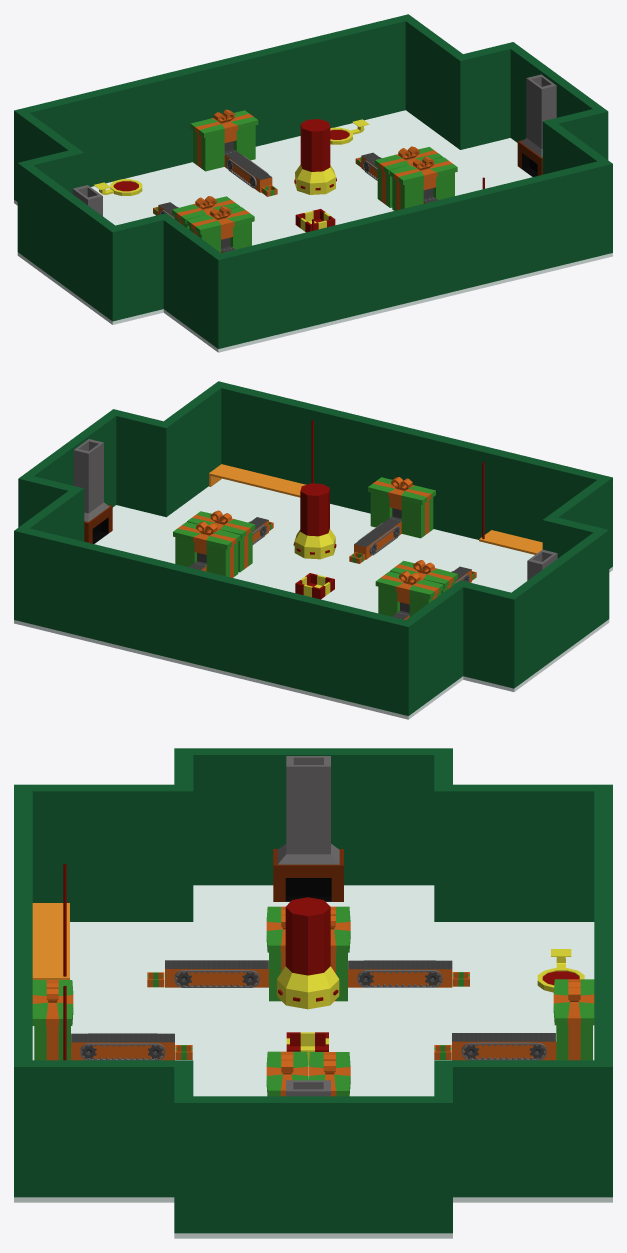
The model's file is EscenarioFinal.fbx.
3 renders of one model, top to bottom at view 1: azimuth 30°, elevation 25°; view 2: azimuth 150°, elevation 25°; view 3: azimuth 270°, elevation 25°, orthographic. The views are drawn at different scales.
Parts seen in each view (by area): view 1: Cube.005, Cube.009, Cube.006, Cube.014, Cylinder.008, Cube.019, Cube.011, Cube.008, Cube.017, Cube.007, Cylinder.007, Cube.003 (+1 smaller); view 2: Cube.005, Cube.013, Cube.011, Cube.014, Cube.002, Cylinder.008, Cube.017, Cube.006, Cube.015, Cube.019, Cube.007, Cube.003; view 3: Cube.005, Cube.003, Cylinder.008, Cube.002, Cube.009, Cube.008, Cube.016, Cube.018, Cube.015, Cube.013, Cube.017, Cube.006 (+5 smaller).
Boxes of the visible parts, box(x1,y1,x2,y2) form: Cube.005: box(14, 14, 612, 352); Cube.009: box(190, 109, 258, 171); Cube.006: box(389, 156, 457, 210); Cube.014: box(517, 74, 556, 176); Cylinder.008: box(294, 119, 336, 194); Cube.019: box(186, 206, 254, 252); Cube.011: box(375, 146, 442, 207); Cube.008: box(224, 151, 277, 196); Cube.017: box(172, 196, 240, 229); Cube.007: box(295, 209, 335, 232); Cylinder.007: box(94, 179, 142, 195); Cube.003: box(72, 185, 102, 215); Cube.005: box(14, 381, 612, 719); Cube.013: box(368, 477, 435, 538); Cube.011: box(173, 521, 240, 577); Cube.014: box(73, 439, 112, 543); Cube.002: box(209, 420, 542, 554); Cylinder.008: box(293, 483, 336, 559); Cube.017: box(375, 571, 443, 616); Cube.006: box(187, 510, 255, 572); Cube.015: box(349, 518, 401, 563); Cube.019: box(390, 560, 457, 593); Cube.007: box(295, 573, 334, 599); Cube.003: box(527, 549, 557, 580); Cube.005: box(14, 748, 612, 1238); Cube.003: box(273, 756, 343, 901); Cylinder.008: box(277, 897, 339, 1009); Cube.002: box(32, 863, 69, 1060); Cube.009: box(553, 979, 594, 1060); Cube.008: box(434, 1033, 556, 1060); Cube.016: box(147, 960, 268, 987); Cube.018: box(348, 960, 469, 987); Cube.015: box(71, 1033, 192, 1060); Cube.013: box(32, 980, 73, 1060); Cube.017: box(330, 906, 350, 1001); Cube.006: box(266, 1051, 308, 1096).
Bounding box in the file's own units: 2573 × 525 × 1837.
